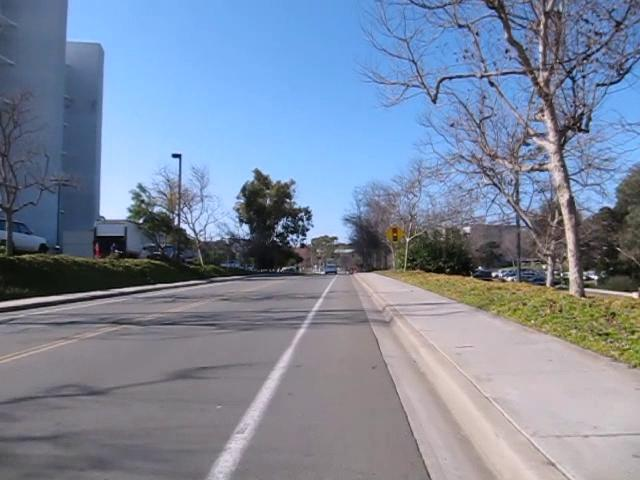signalAhead: (383, 223, 406, 245)
